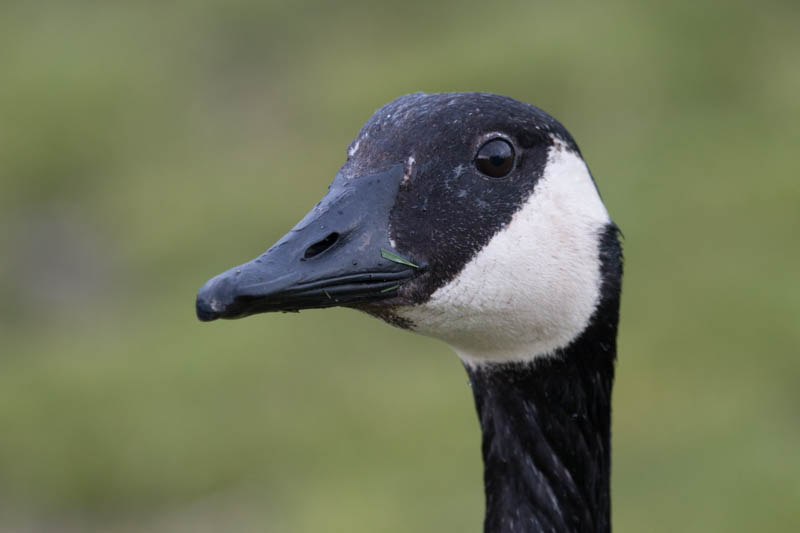goose-head: (193, 93, 625, 365)
